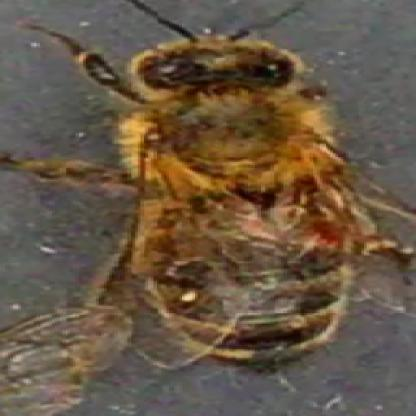bee: (78, 29, 372, 370)
